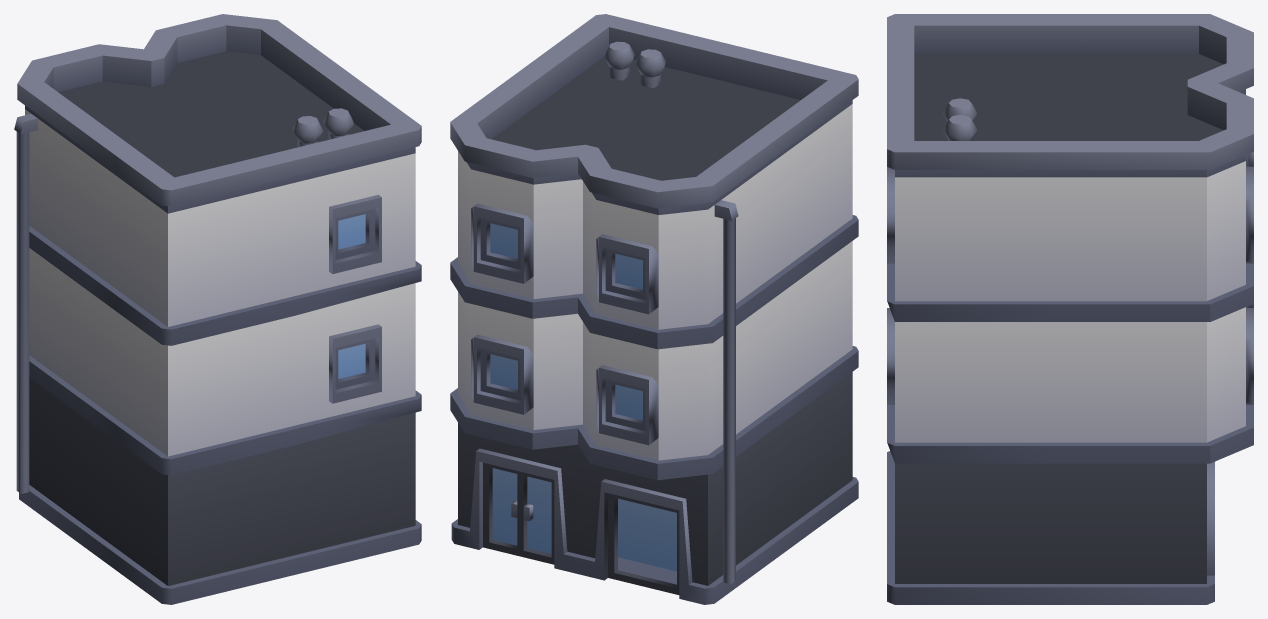
The model's file is townhouse-a.glb.
3 renders of one model, left to right at view 1: azimuth 30°, elevation 25°; view 2: azimuth 150°, elevation 25°; view 3: azimuth 270°, elevation 25°, orthographic. The views are drawn at different scales.
Visible parts, largest first — view 1: building-a; view 2: building-a; view 3: building-a.
Boxes of the visible parts, x1=… form: building-a: x1=14, y1=14, x2=421, y2=604; building-a: x1=450, y1=14, x2=858, y2=604; building-a: x1=887, y1=14, x2=1253, y2=604.
Size of the model in its own units: 0.8759 by 1.29 by 0.94.
Materials: 1 (1 with a texture image).
